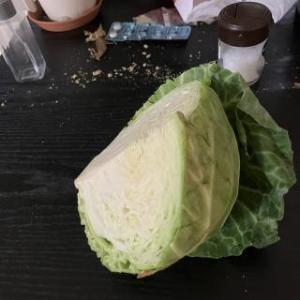cabbage: (74, 60, 296, 280)
